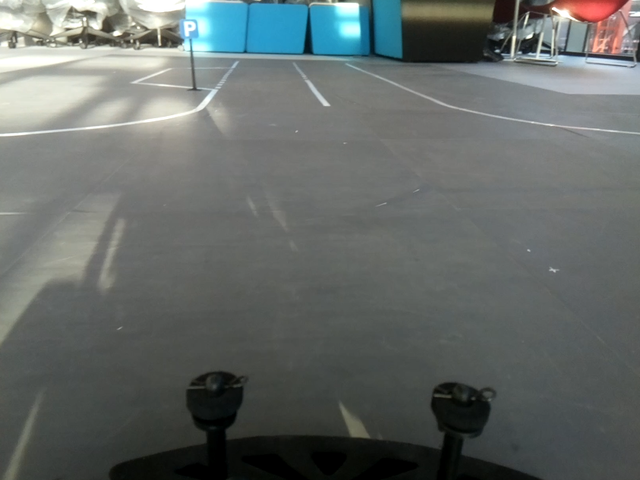parking: (179, 19, 199, 39)
